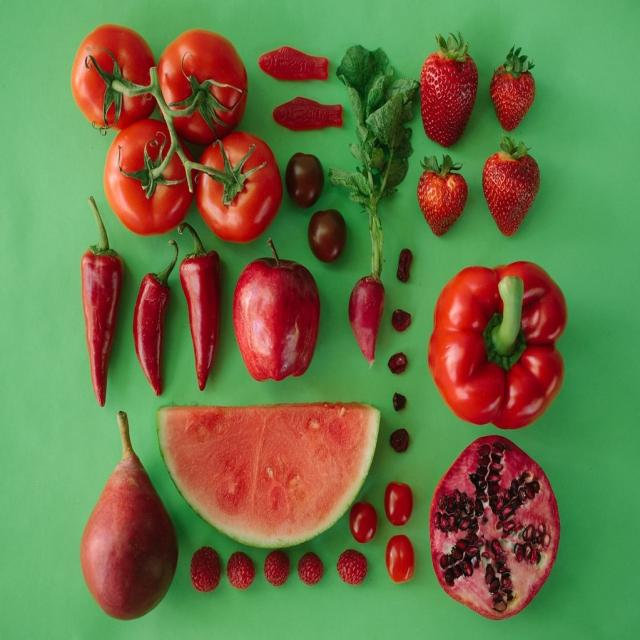Apple: (237, 239, 319, 386)
Capsicum: (426, 259, 567, 426)
Chilli: (84, 197, 122, 410), (134, 242, 181, 397), (183, 223, 224, 390)
Pomegranate: (432, 436, 560, 618)
Strawberry: (474, 140, 550, 235), (422, 32, 478, 143), (413, 153, 473, 235), (490, 50, 544, 136)
Tomato: (106, 125, 198, 235), (162, 33, 248, 141), (74, 24, 158, 124), (208, 136, 278, 240)
Watermelon: (164, 401, 377, 548)
